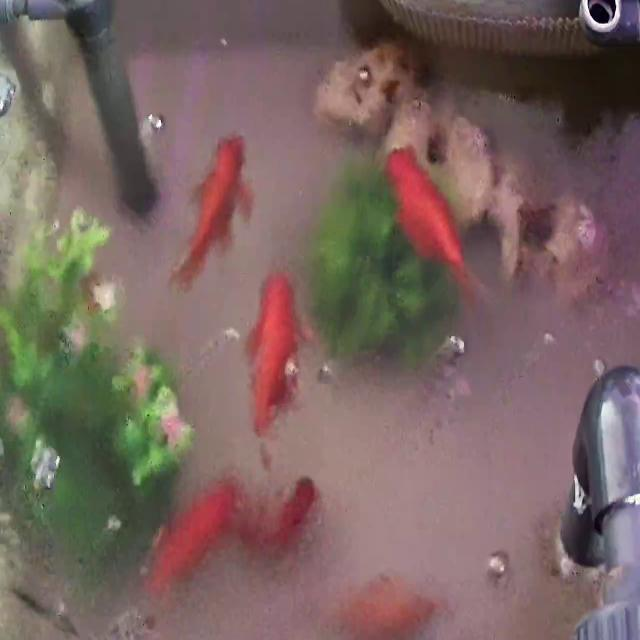fish: (386, 143, 483, 310), (241, 269, 318, 467), (137, 479, 252, 596), (171, 134, 253, 292), (340, 575, 456, 640), (246, 473, 335, 544)
